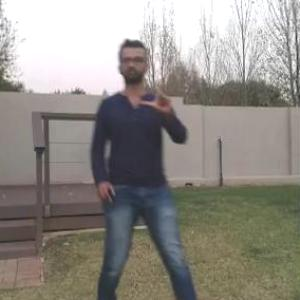land_hand: (140, 75, 174, 114)
